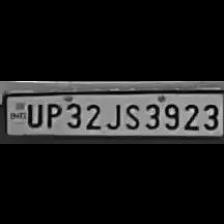2: (81, 99, 101, 129), (180, 100, 200, 130)
3: (62, 98, 82, 128), (200, 98, 218, 130), (142, 99, 160, 129)
9: (161, 99, 179, 129)
J: (103, 99, 121, 129)
P: (42, 99, 62, 127)
S: (123, 99, 141, 129)
U: (22, 99, 44, 127)
